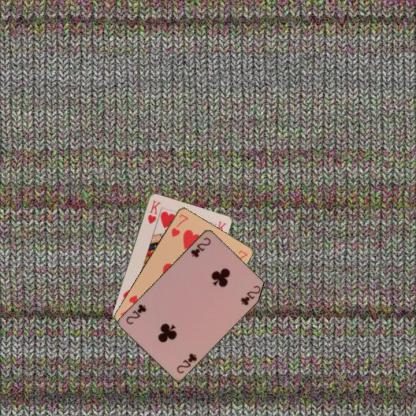2c: (188, 235, 212, 258), (174, 351, 198, 374)
7h: (168, 211, 190, 238)
Kh: (145, 198, 162, 224)
